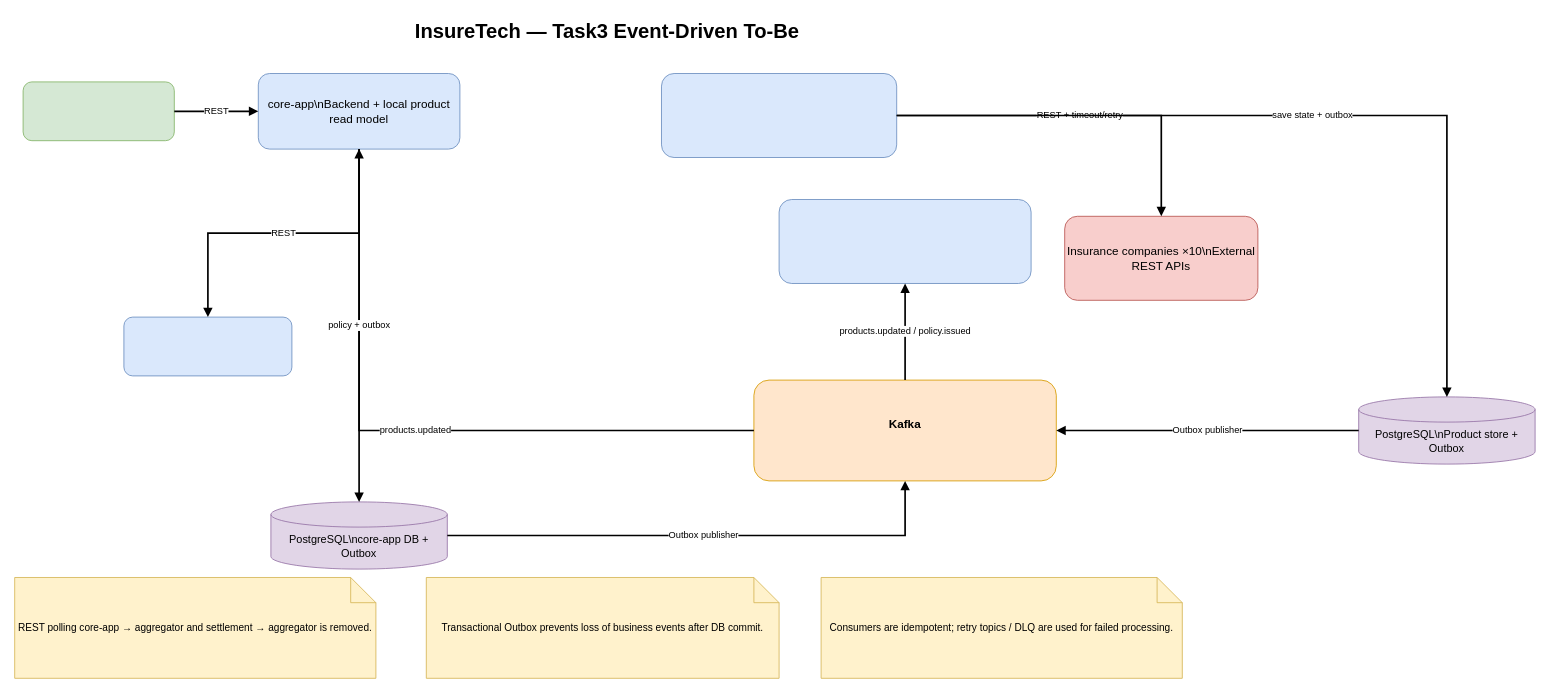
The diagram is 1550 pixels wide and 693 high, and some of its shapes have lost their labels. Each missing label, with the centre of its shape:
"client-info" goes at (x=207, y=346).
"ins-comp-settlement\nSettlement registry + local product read model" goes at (x=904, y=241).
"ins-product-aggregator\nProduct normalization + product store + outbox" goes at (x=779, y=115).
"Web application" goes at (x=98, y=111).
